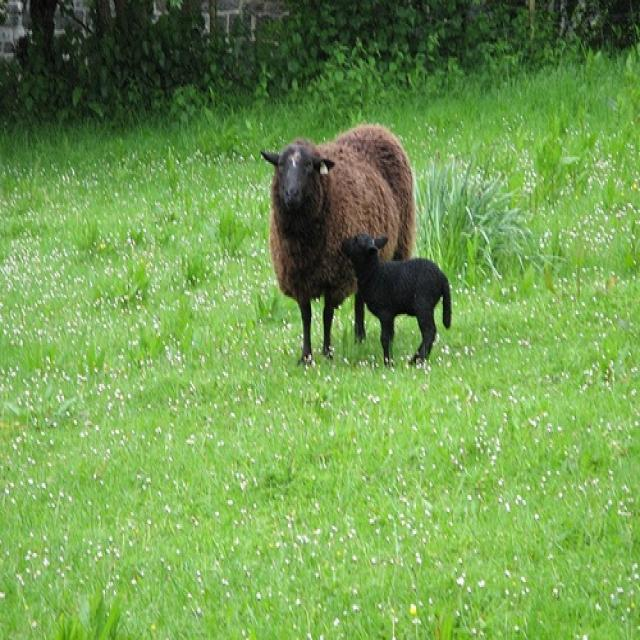sheep: (259, 124, 419, 363), (340, 233, 454, 365)
